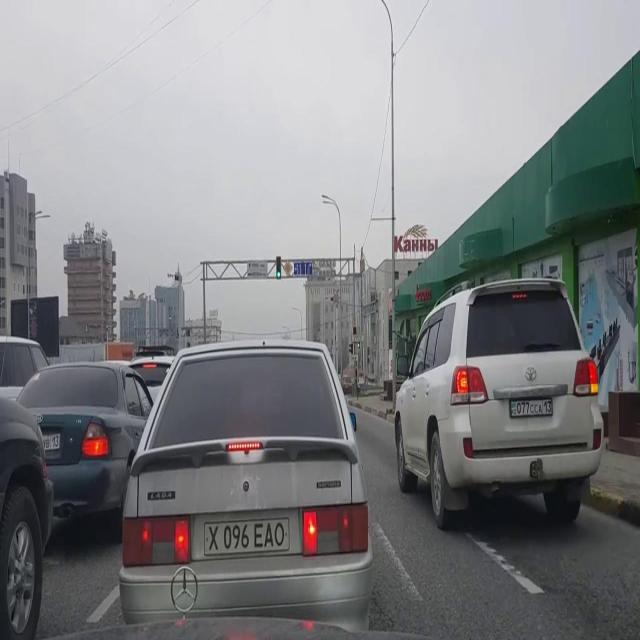car: (118, 337, 374, 633), (394, 276, 604, 530), (14, 359, 154, 528), (0, 395, 54, 639)
license: (202, 516, 290, 556), (509, 396, 553, 418)
